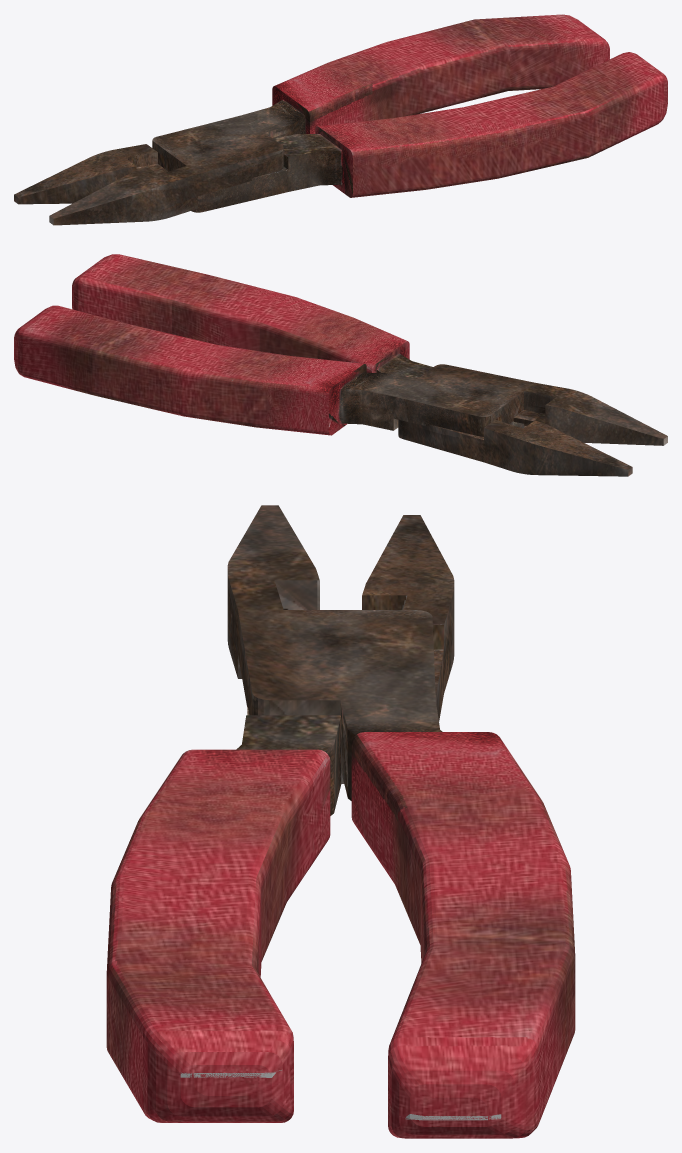
Rendered from TP-PINZA-V3.fbx.
3 views of the same model, one above another, from view 1: azimuth 30°, elevation 25°; view 2: azimuth 150°, elevation 25°; view 3: azimuth 270°, elevation 25° (orthographic). The views are drawn at different scales.
Visible parts, largest first — view 1: Cube; view 2: Cube; view 3: Cube.
Part boxes in pixels (box(x1,y1,x2,y2)): Cube: box(14, 14, 667, 225); Cube: box(14, 254, 667, 476); Cube: box(106, 505, 575, 1138).
Size of the model in its own units: 1536 by 140 by 525.
Materials: 1 (1 with a texture image).
